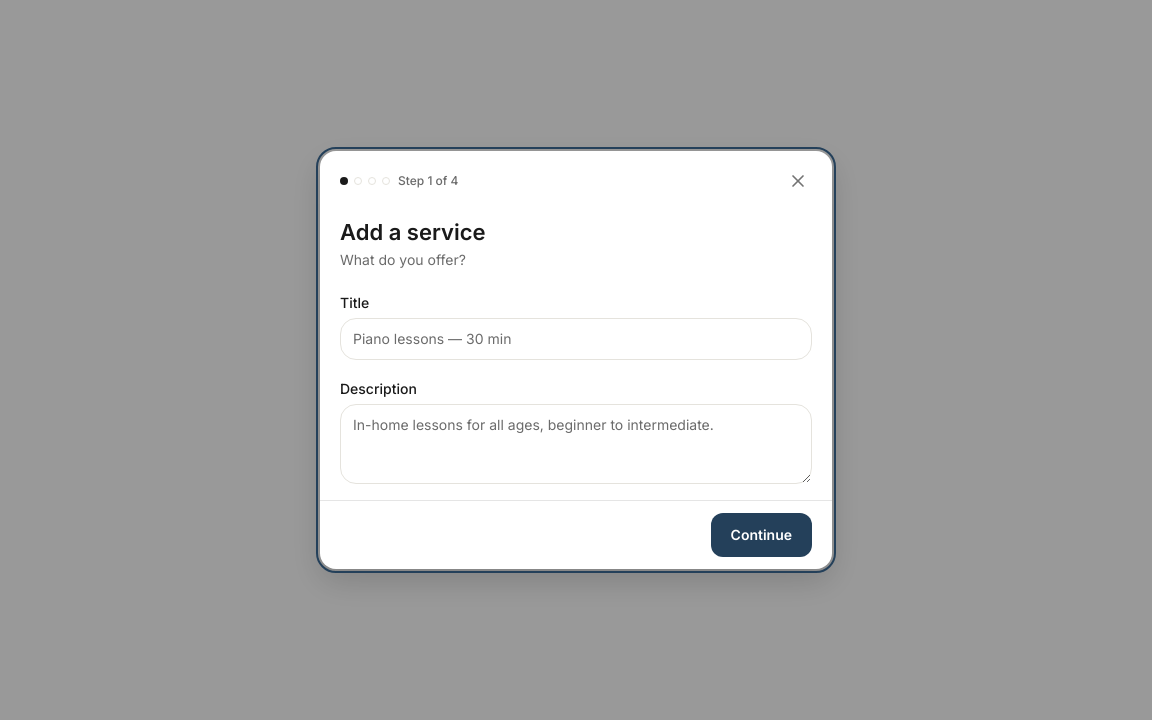
Test: T082 — service area + publish › requires a radius before publishing
Step 1. Type "Piano lessons" into the field with test id "service-title-input" → (576, 339), box [340,318,812,360]
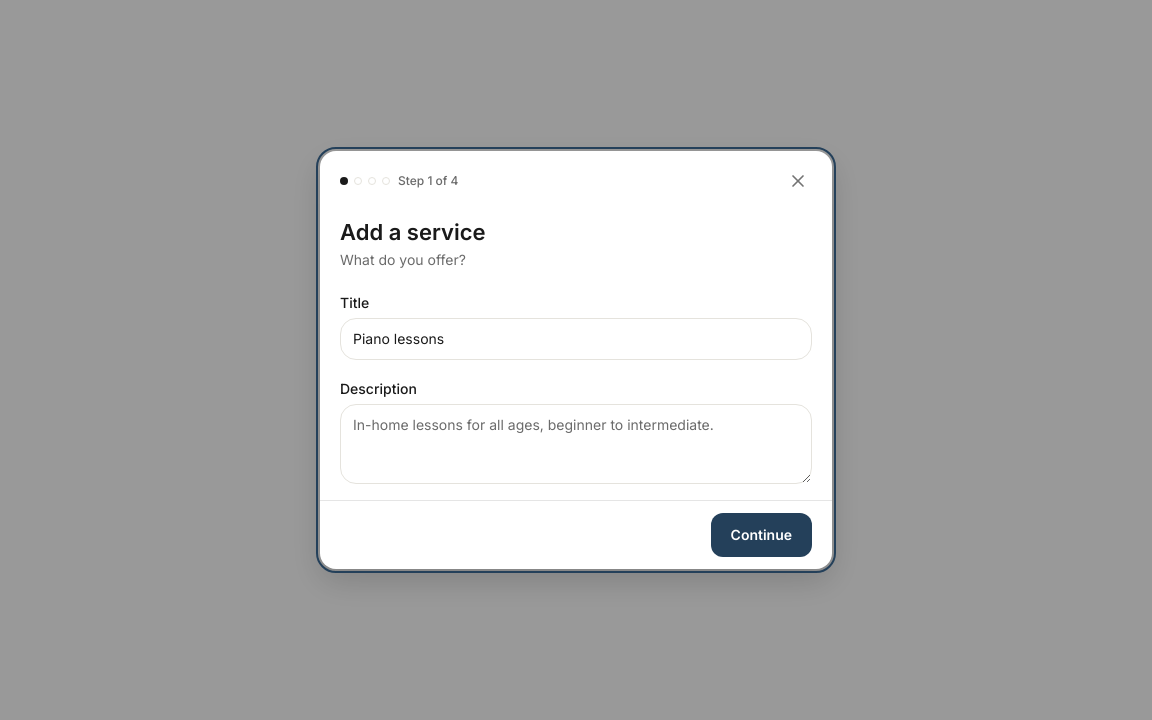
Step 2. Type "In-home, 30 minutes." into the text box with test id "service-description-input" → (576, 444), box [340,404,812,484]
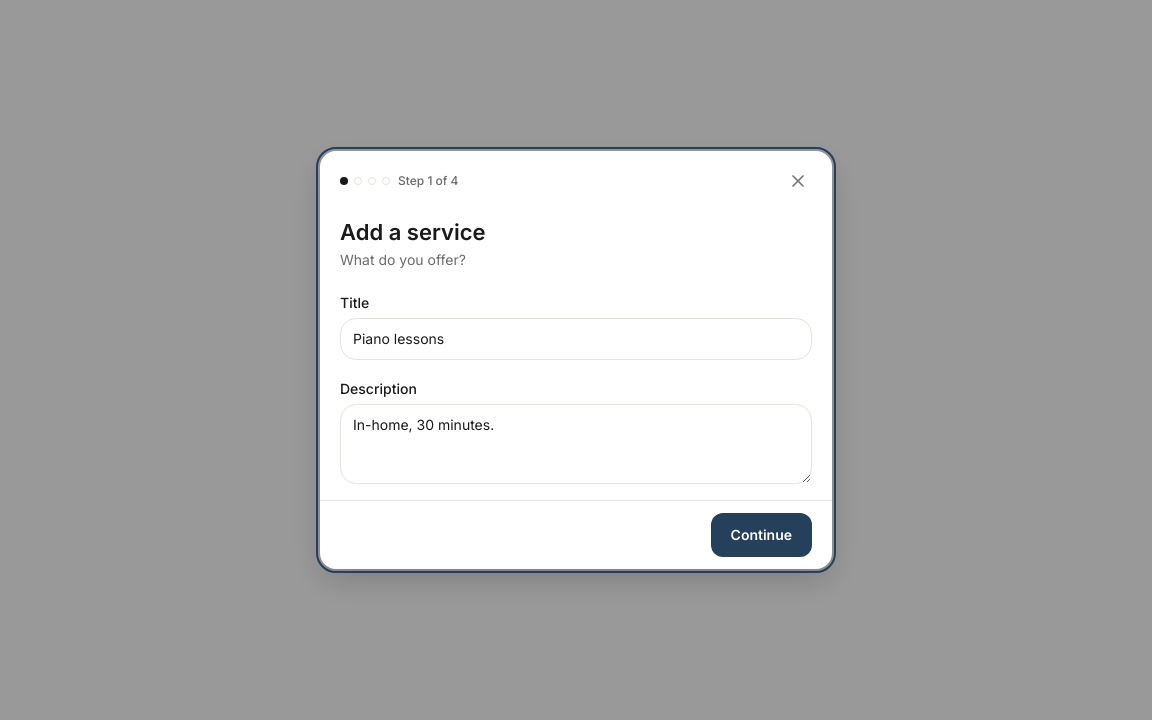
Step 3. Click the button "Continue" → click(761, 535), box [711,513,812,557]
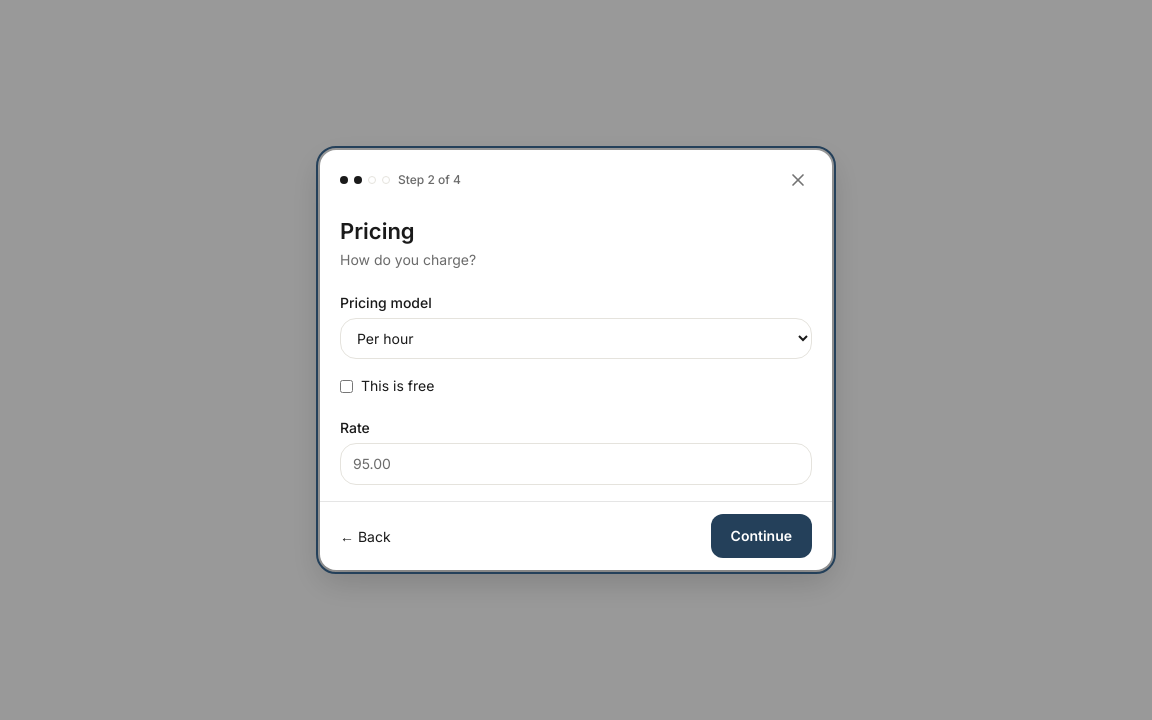
Now the dropdown with test id "service-rate-model-select" is shown
Step 4. Select "Per hour" in the dropdown with test id "service-rate-model-select" → (576, 338), box [340,318,812,359]
Step 5. Type "95" into the field with test id "service-rate-input" → (576, 464), box [340,443,812,485]
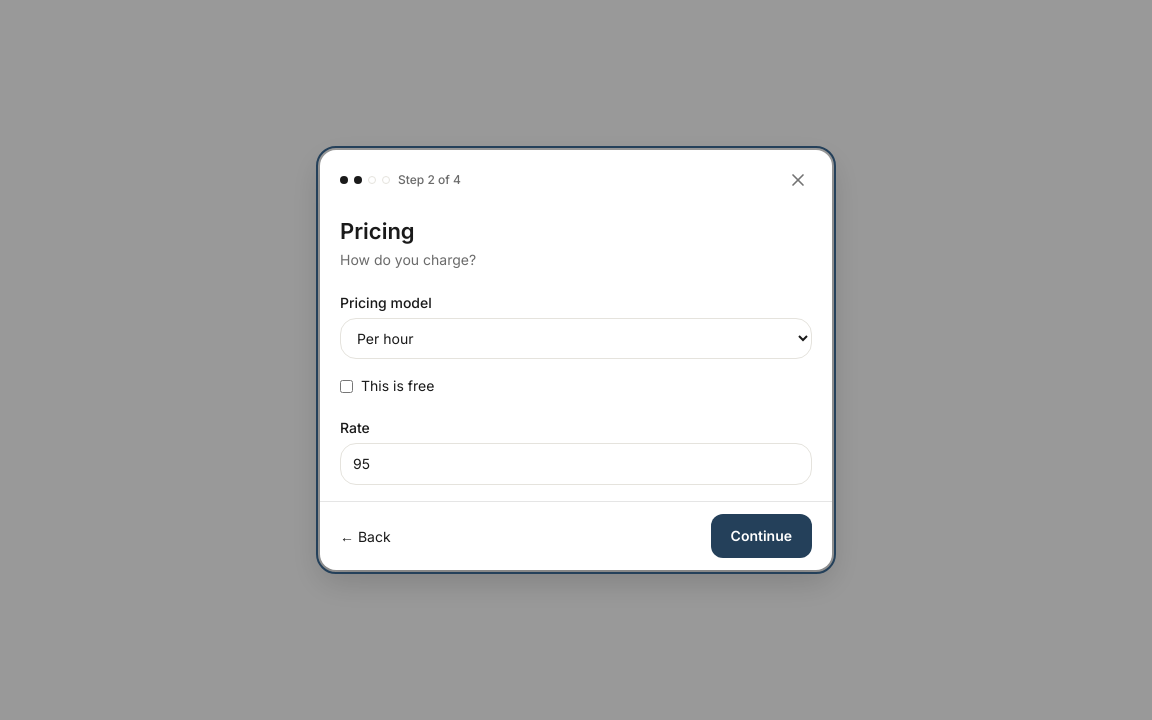
Step 6. Click the button "Continue" → click(761, 536), box [711,514,812,558]
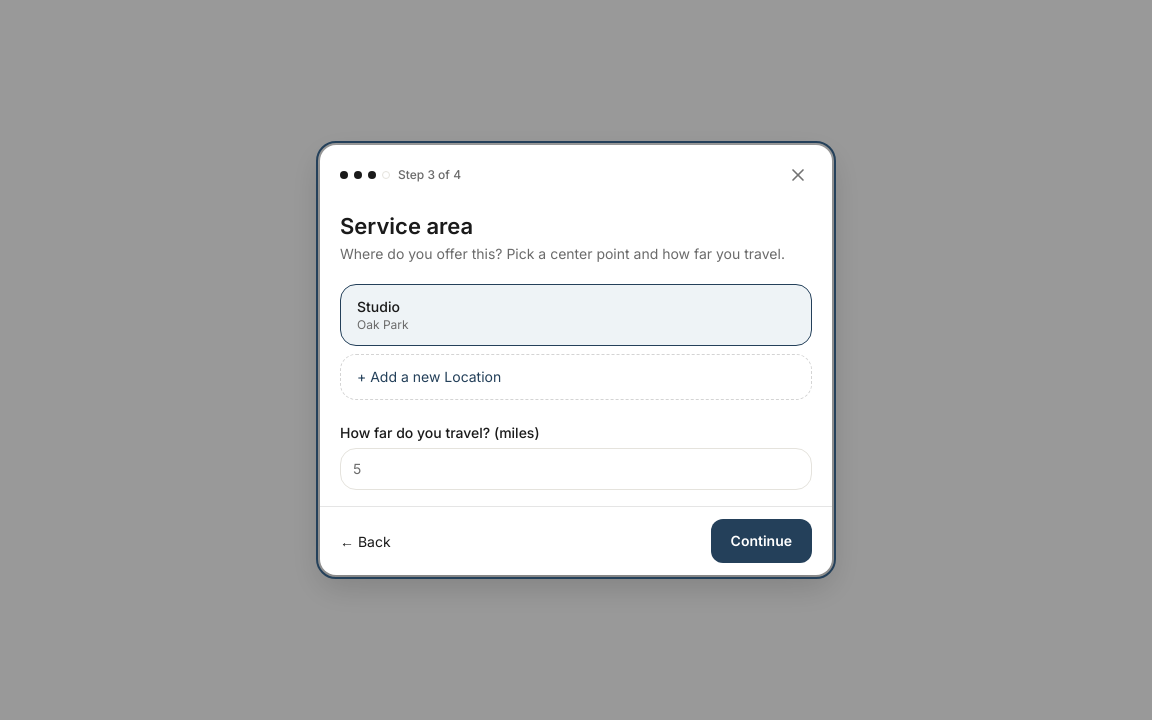
Now the list with test id "service-center-options" is shown, box [340,284,812,400]
Step 7. Click the button "Continue" → click(761, 541), box [711,519,812,563]
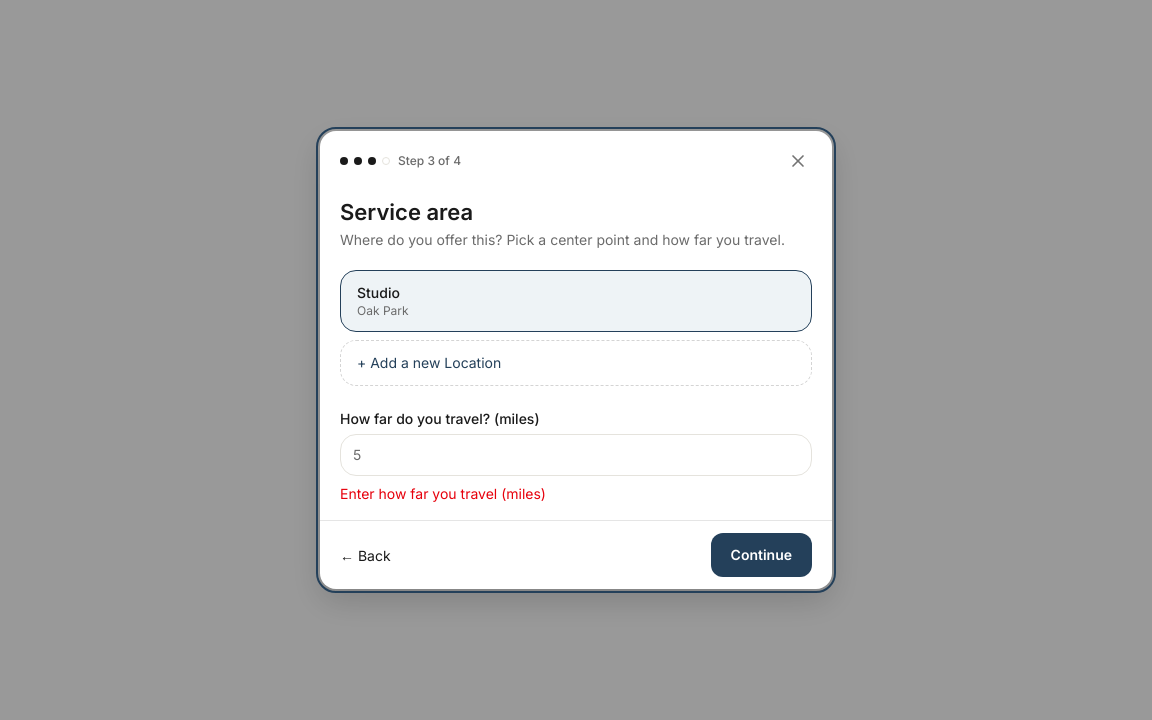
Now the text "Enter how far you travel (miles)" is shown, box [340,485,546,502]
